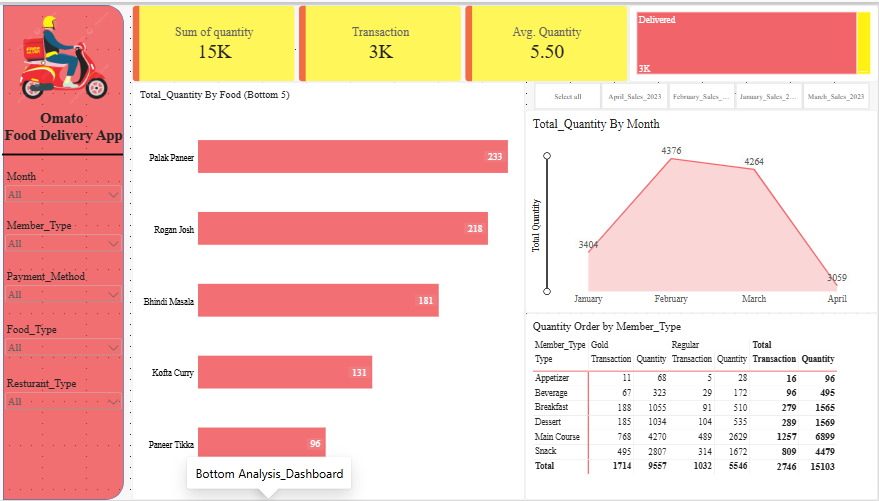

Layout of this report page (visuals, bound fields, positions):
{"tool":"powerbi","page":{"name":"Bottom Analysis_Dashboard","canvas":[1920,1080],"ordinal":1},"visuals":[{"type":"shape","box":[10.8,0,263.5,1080],"z":0},{"type":"image","box":[10.9,0,264,229.1],"z":1000},{"type":"textbox","box":[10.9,229.1,264,98.2],"z":2000},{"type":"shape","box":[8.7,292.4,264,67.6],"z":3000},{"type":"slicer","fields":{"Values":["Sales Data.orderDate.Variation.Date Hierarchy.Month"]},"box":[10.9,360,264,93.8],"z":4000},{"type":"slicer","fields":{"Values":["Customer Details.member_Type"]},"box":[10.9,466.9,264,93.8],"z":4001},{"type":"slicer","fields":{"Values":["Sales Data.payment_method"]},"box":[10.9,578.2,264,93.8],"z":4002},{"type":"slicer","fields":{"Values":["Food_Details.Type"]},"box":[10.9,693.8,264,93.8],"z":4003},{"type":"slicer","fields":{"Values":["Resturant_Details.Resturant_type"]},"box":[10.9,811.6,264,93.8],"z":4004},{"type":"cardVisual","fields":{"Data":["Sum(Sales Data.quantity)","Sales Data.Transaction","Sales Data.Avg. Quantity"]},"box":[292.4,0,1084.4,168],"z":4005},{"type":"clusteredBarChart","title":"Total_Quantity By Food (Bottom 5)","fields":{"Category":["Food_Details.Food"],"Y":["Sales Data.Total Quantity"]},"box":[292.4,168,857.5,912],"z":4006},{"type":"pivotTable","title":"Quantity Order by Member_Type","fields":{"Columns":["Customer Details.member_Type"],"Rows":["Food_Details.Type"],"Values":["Sales Data.Transaction","Sum(Sales Data.quantity)"]},"box":[1149.8,672,770.2,408],"z":4008},{"type":"treemap","fields":{"Group":["Sales Data.deliver_status"],"Values":["Sales Data.Transaction"]},"box":[1376,0,544,168],"z":4009},{"type":"stackedAreaChart","title":"Total_Quantity By Month","fields":{"Category":["Sales Data.orderDate.Variation.Date Hierarchy.Month"],"Y":["Sales Data.Total Quantity"]},"box":[1149.8,229.1,770.2,442.9],"z":4010},{"type":"slicer","fields":{"Values":["Sales Data.Month_And_Year"]},"box":[1149.8,168,770.2,61.1],"z":4011}]}

Visuals, with their boxes in screenshot pixels (x1, y1, x2, y2), scaled from the page's 1920x1080 canvas onto the 879x501 screenshot:
shape: select_region(5, 0, 126, 500)
image: select_region(5, 0, 126, 106)
textbox: select_region(5, 106, 126, 152)
shape: select_region(4, 136, 125, 167)
slicer - Sales Data.orderDate.Variation.Date Hierarchy.Month: select_region(5, 167, 126, 211)
slicer - Customer Details.member_Type: select_region(5, 217, 126, 260)
slicer - Sales Data.payment_method: select_region(5, 268, 126, 312)
slicer - Food_Details.Type: select_region(5, 322, 126, 365)
slicer - Resturant_Details.Resturant_type: select_region(5, 376, 126, 420)
cardVisual - Sum(Sales Data.quantity) x Sales Data.Transaction: select_region(134, 0, 630, 78)
"Total_Quantity By Food (Bottom 5)" clusteredBarChart: select_region(134, 78, 526, 500)
"Quantity Order by Member_Type" pivotTable: select_region(526, 312, 878, 500)
treemap - Sales Data.deliver_status x Sales Data.Transaction: select_region(630, 0, 878, 78)
"Total_Quantity By Month" stackedAreaChart: select_region(526, 106, 878, 312)
slicer - Sales Data.Month_And_Year: select_region(526, 78, 878, 106)
